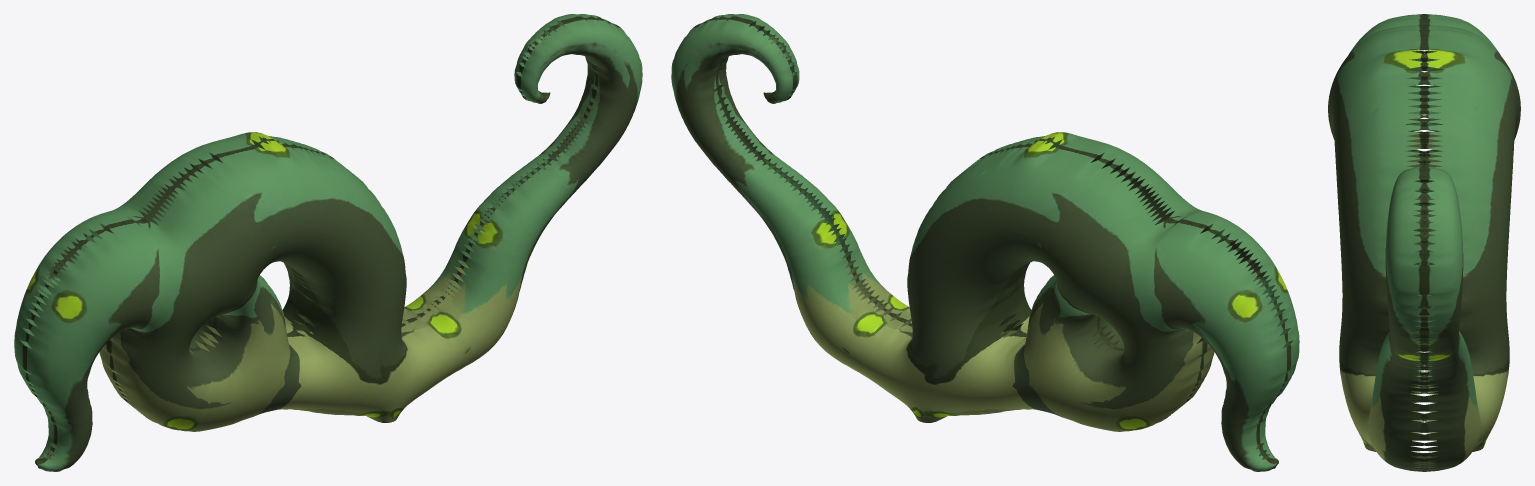
The model's file is spiral_vine.glb.
3 views of the same model, side by side, from view 1: azimuth 30°, elevation 25°; view 2: azimuth 150°, elevation 25°; view 3: azimuth 270°, elevation 25° (orthographic). The views are drawn at different scales.
Visible parts, largest first — view 1: spiral_vine; view 2: spiral_vine; view 3: spiral_vine.
Boxes of the visible parts, box(x1,y1,x2,y2) form: spiral_vine: box(14, 14, 642, 471); spiral_vine: box(671, 14, 1299, 471); spiral_vine: box(1328, 14, 1520, 471).
Bounding box in the file's own units: 0.9889 × 0.5171 × 0.2312.
1 material, 1 textured.
